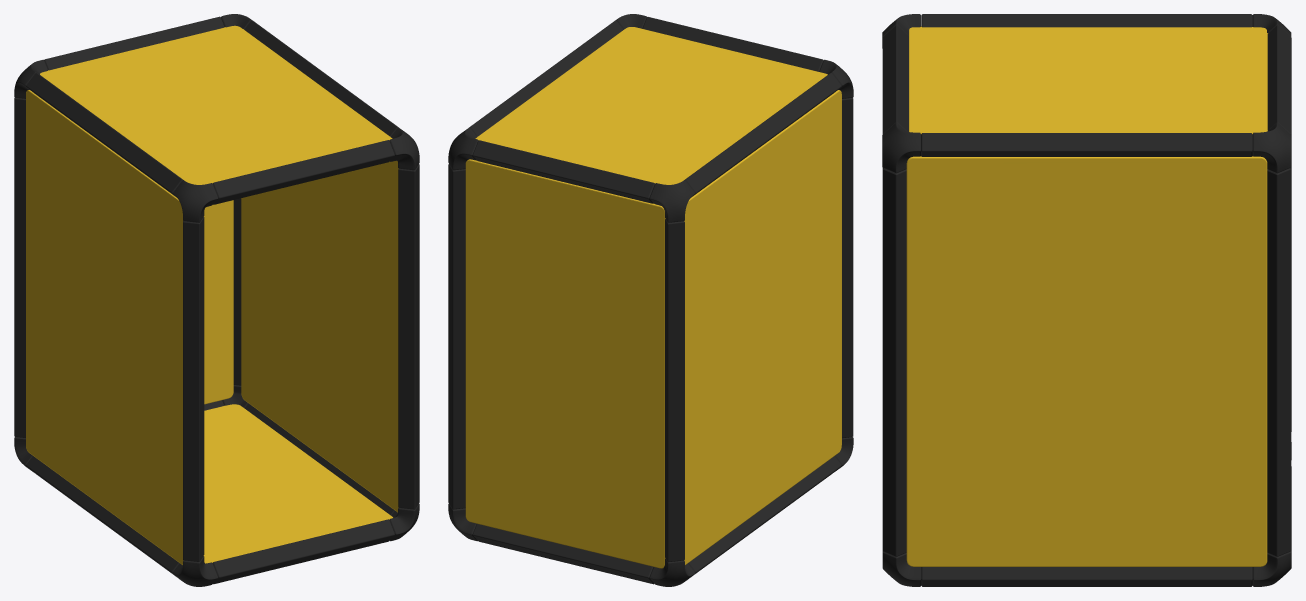
The picture shows the model from 3 angles, left to right: view 1: azimuth 30°, elevation 25°; view 2: azimuth 150°, elevation 25°; view 3: azimuth 270°, elevation 25°; orthographic projection. The views are drawn at different scales.
Parts seen in each view (by area): view 1: 229x329x420; view 2: 229x329x420; view 3: 229x329x420.
Boxes of the visible parts, x1=… form: 229x329x420: x1=14, y1=14, x2=419, y2=586; 229x329x420: x1=448, y1=14, x2=853, y2=586; 229x329x420: x1=882, y1=14, x2=1291, y2=586.
Bounding box in the file's own units: 0.3067 × 0.4976 × 0.4063.
